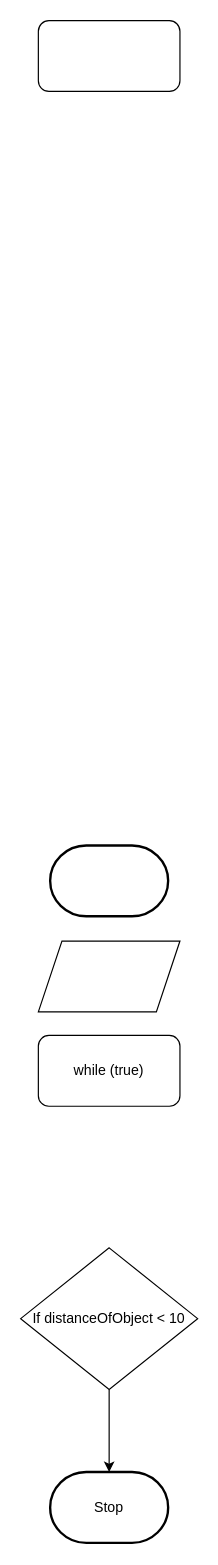
The diagram is 218 pixels wide and 1565 high, and some of its shapes have lost their labels. The centre of each missing label's shape, as x and y in pixels:
distanceOfObject : number: point (108, 976)
Start: point (108, 880)
